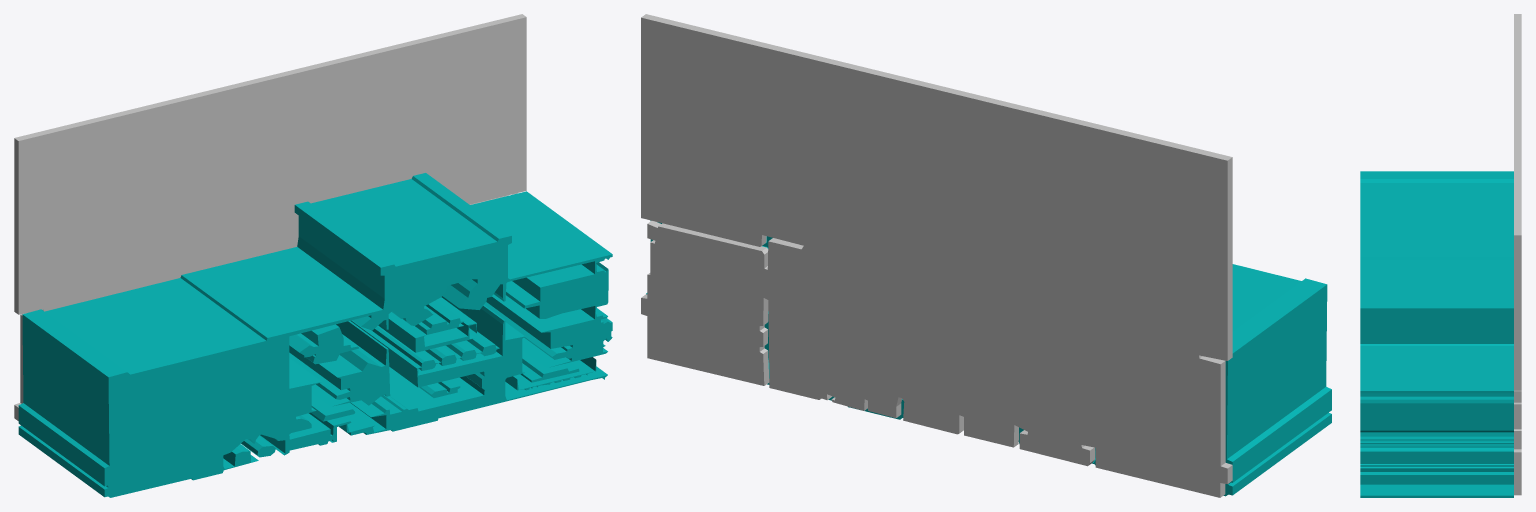
3 views of the same model, side by side, from view 1: azimuth 30°, elevation 25°; view 2: azimuth 150°, elevation 25°; view 3: azimuth 270°, elevation 25° (orthographic). The views are drawn at different scales.
Visible parts, largest first — view 1: world; view 2: world; view 3: world.
Part boxes in pixels (x1,y1,x2,y2): world: (14, 14, 612, 497); world: (641, 14, 1331, 497); world: (1360, 14, 1521, 497).
Size of the model in its own units: 10.23 by 5.73 by 3.15.
